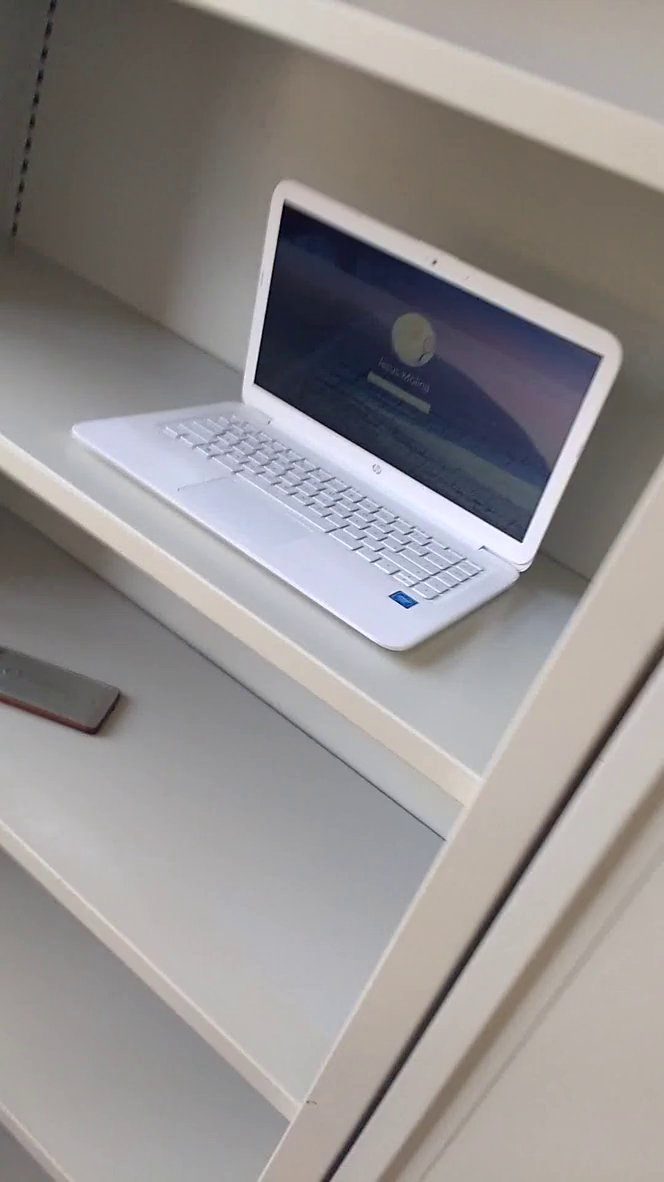laptop: (58, 157, 647, 687)
